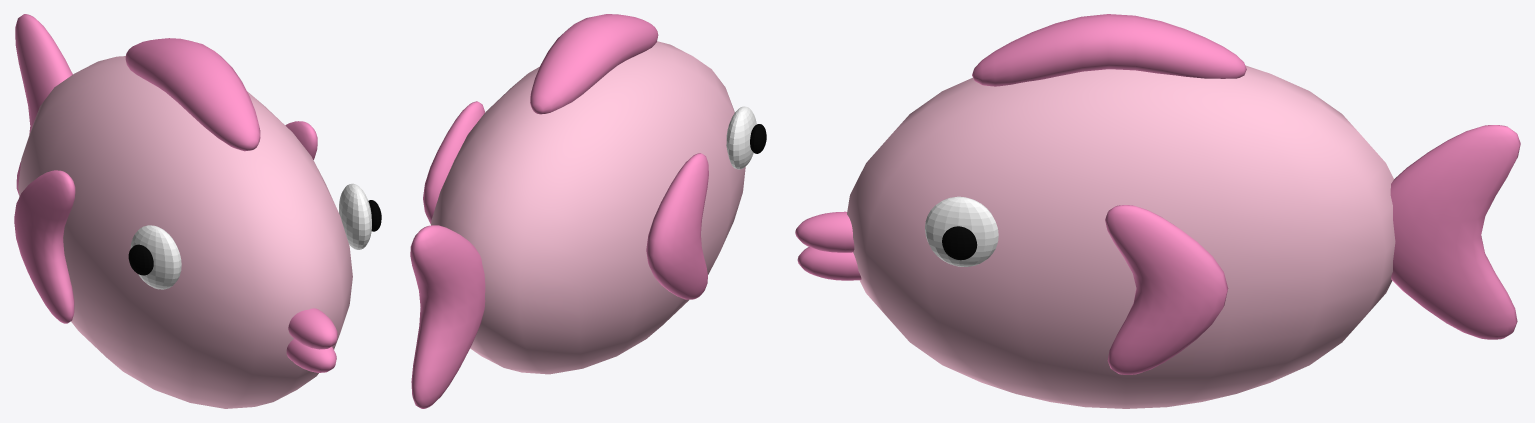
File: fish002.fbx
The picture shows the model from 3 angles, left to right: view 1: azimuth 30°, elevation 25°; view 2: azimuth 150°, elevation 25°; view 3: azimuth 270°, elevation 25°; orthographic projection. The views are drawn at different scales.
Visible parts, largest first — view 1: Fish.002; view 2: Fish.002; view 3: Fish.002.
Boxes of the visible parts, box(x1,y1,x2,y2) form: Fish.002: box(14, 14, 381, 408); Fish.002: box(410, 14, 766, 408); Fish.002: box(795, 14, 1520, 408).
Size of the model in its own units: 298 by 254 by 514.
